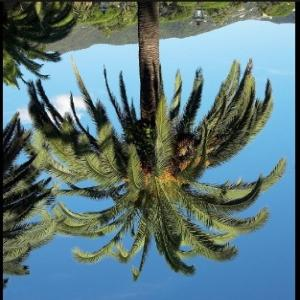palm tree: (20, 57, 287, 282)
